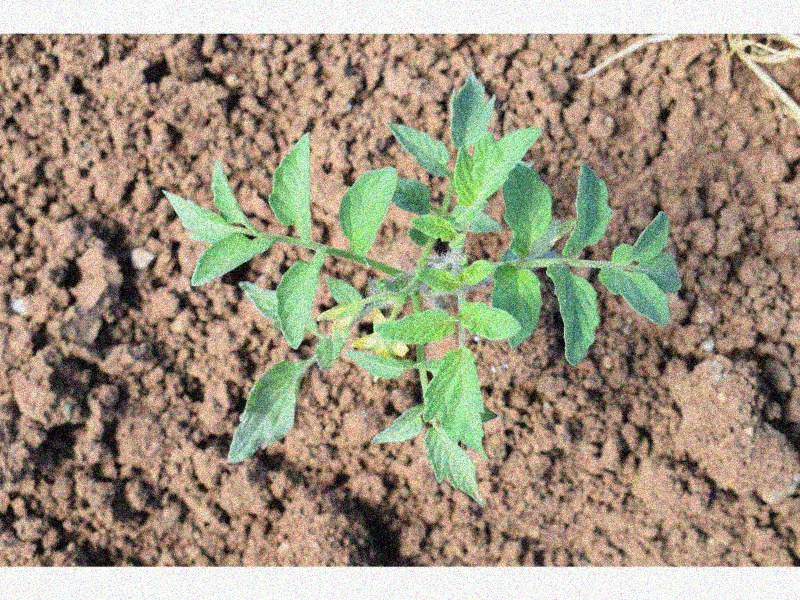tomato: (161, 73, 677, 502)
